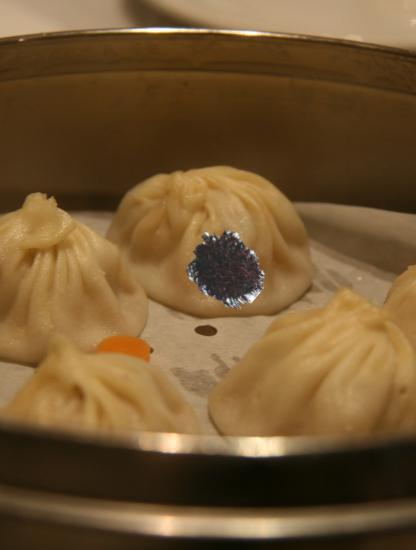Rambutan: (187, 229, 268, 310)
